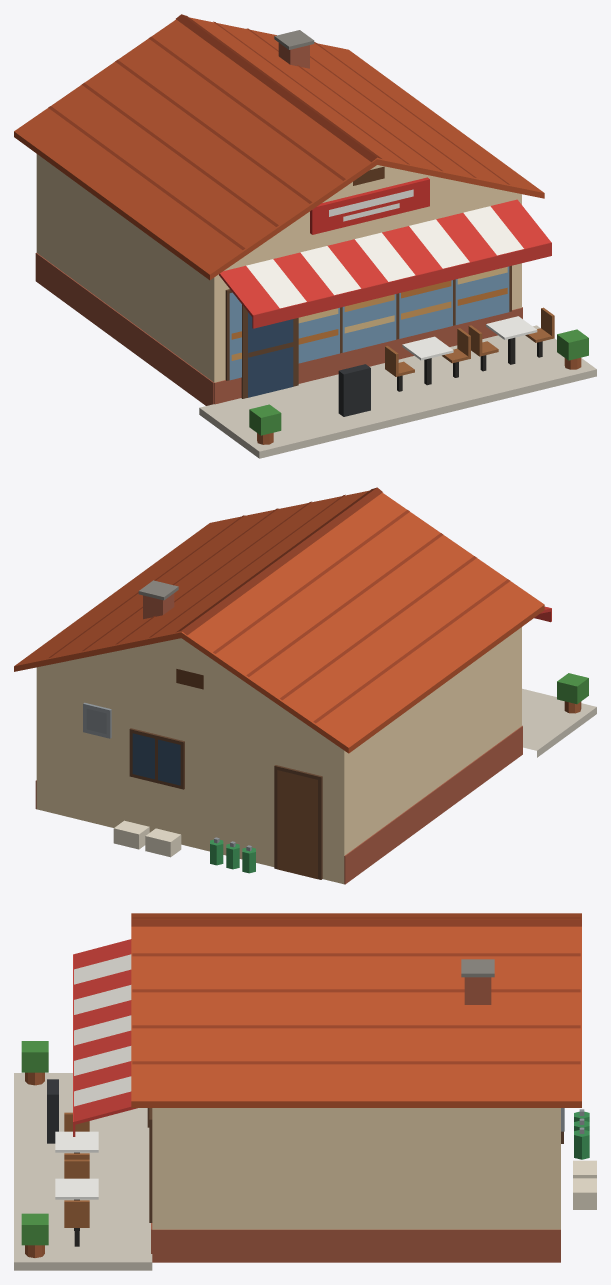
File: toko_04.glb
3 views of the same model, one above another, from view 1: azimuth 30°, elevation 25°; view 2: azimuth 150°, elevation 25°; view 3: azimuth 270°, elevation 25° (orthographic). The views are drawn at different scales.
Parts seen in each view (by area): view 1: toko_04; view 2: toko_04; view 3: toko_04.
Part boxes in pixels (x1=…): toko_04: x1=14, y1=14, x2=596, y2=458; toko_04: x1=14, y1=487, x2=596, y2=884; toko_04: x1=14, y1=913, x2=596, y2=1270.
Bounding box in the file's own units: 7.46 × 4.7 × 9.7.
